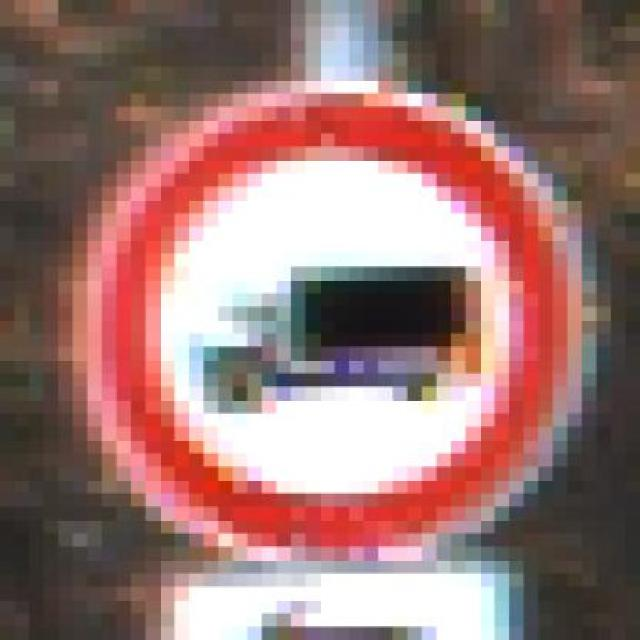Truck traffic is prohibited: (58, 53, 596, 587)
